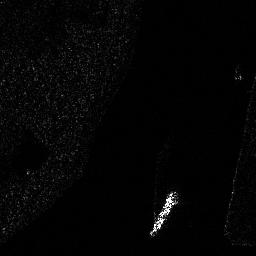ship: (149, 190, 178, 237)
